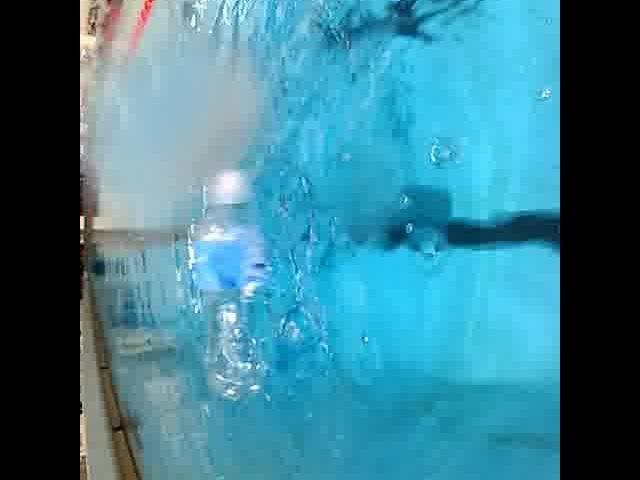Bottle: (185, 165, 275, 408)
